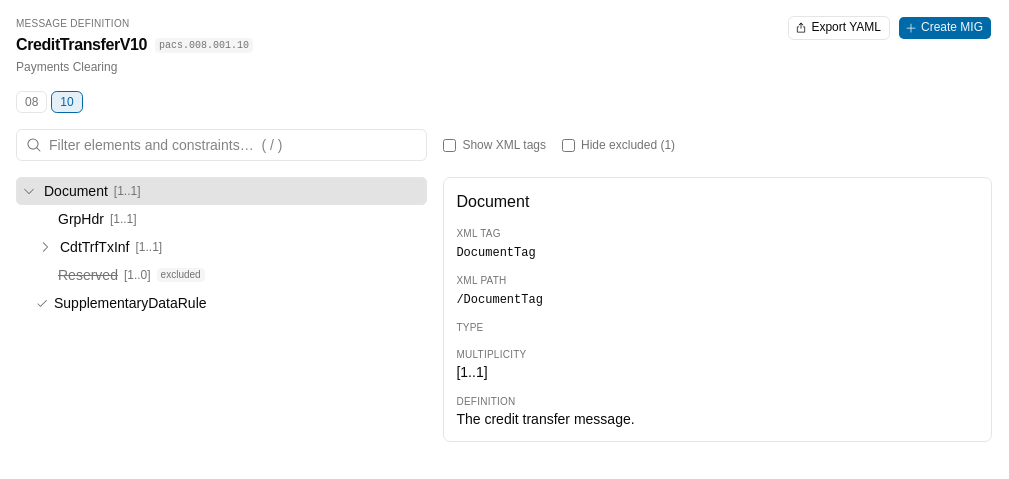
Test case: MessageExplorer › lists element constraints as nodes and shows their detail
Click the list item with aria-label "constraint SupplementaryDataRule": (121, 303) x1=36 y1=295 x2=206 y2=311
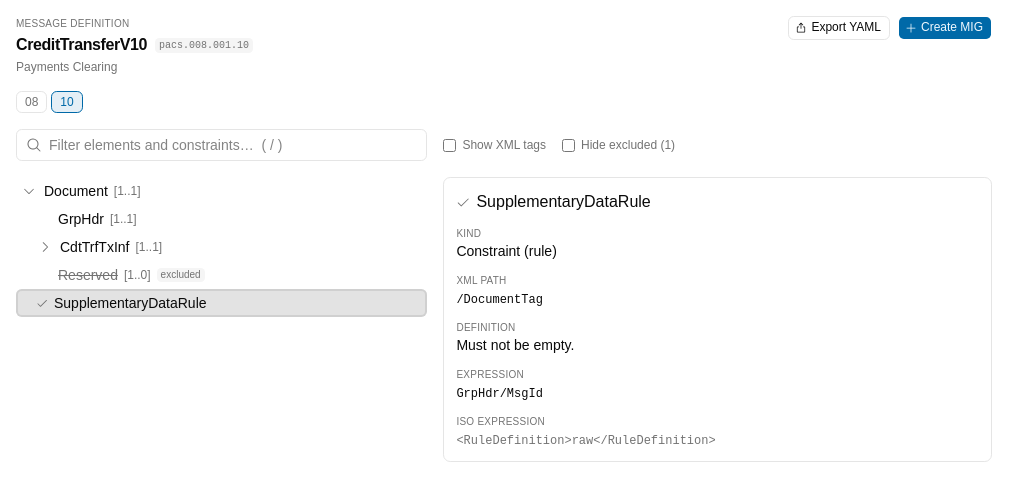
expect the text "Must not be empty." is shown: met, box x1=456 y1=337 x2=574 y2=353
expect the text "GrpHdr/MsgId" is shown: met, box x1=456 y1=387 x2=543 y2=401
expect the text "<RuleDefinition>raw</RuleDefinition>" is shown: met, box x1=456 y1=434 x2=716 y2=448
